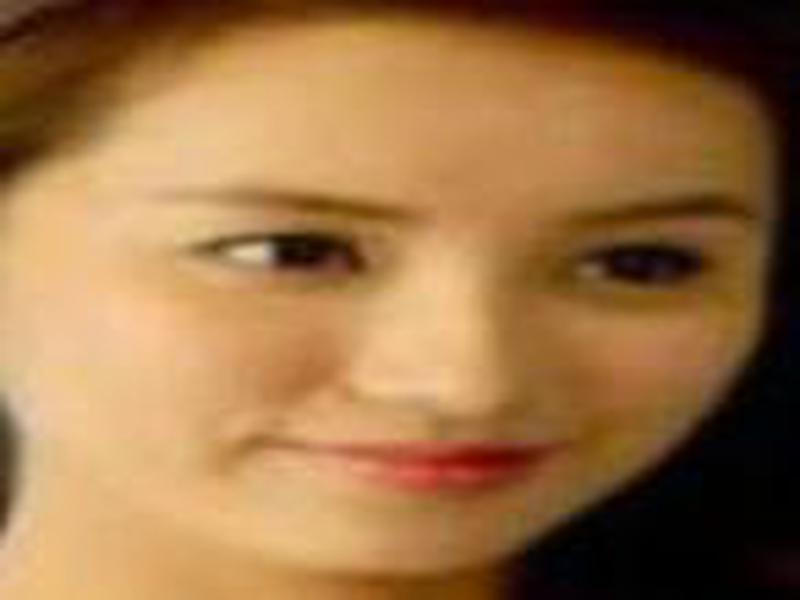without_mask: (17, 14, 763, 600)
